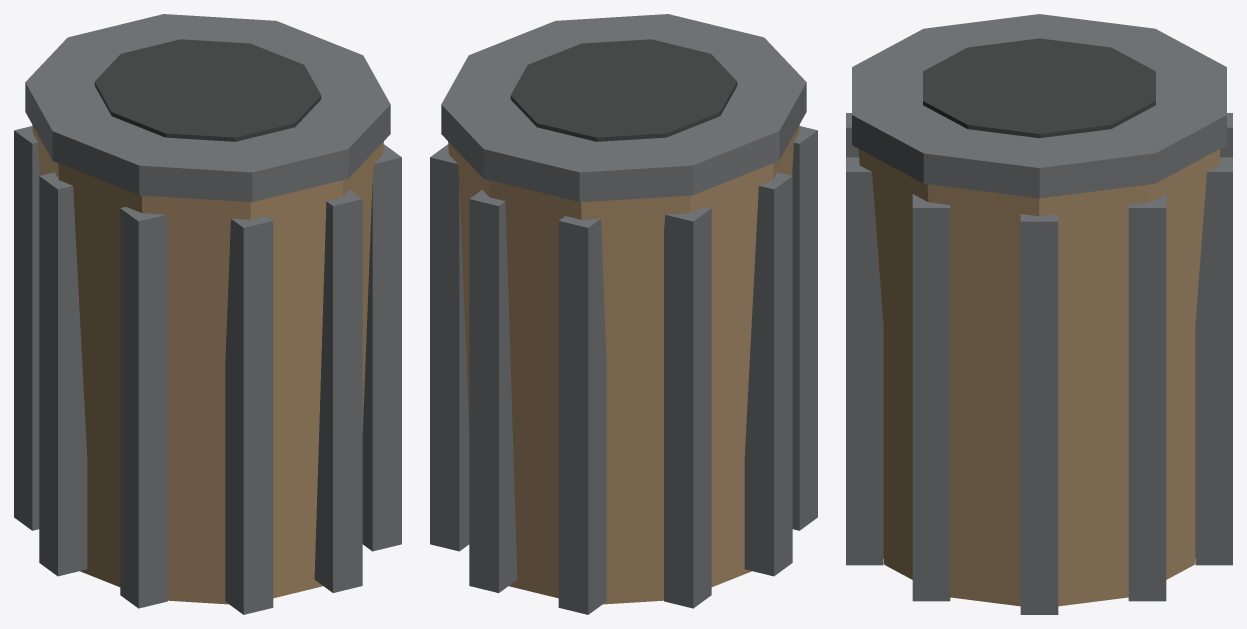
File: bin_01.glb
The picture shows the model from 3 angles, left to right: view 1: azimuth 30°, elevation 25°; view 2: azimuth 150°, elevation 25°; view 3: azimuth 270°, elevation 25°; orthographic projection.
Visible parts, largest first — view 1: Bin_01; view 2: Bin_01; view 3: Bin_01.
Boxes of the visible parts, bbox=[...] form: Bin_01: bbox=[14, 14, 401, 614]; Bin_01: bbox=[430, 14, 817, 614]; Bin_01: bbox=[846, 14, 1232, 614].
Size of the model in its own units: 0.5689 by 0.77 by 0.5883.
